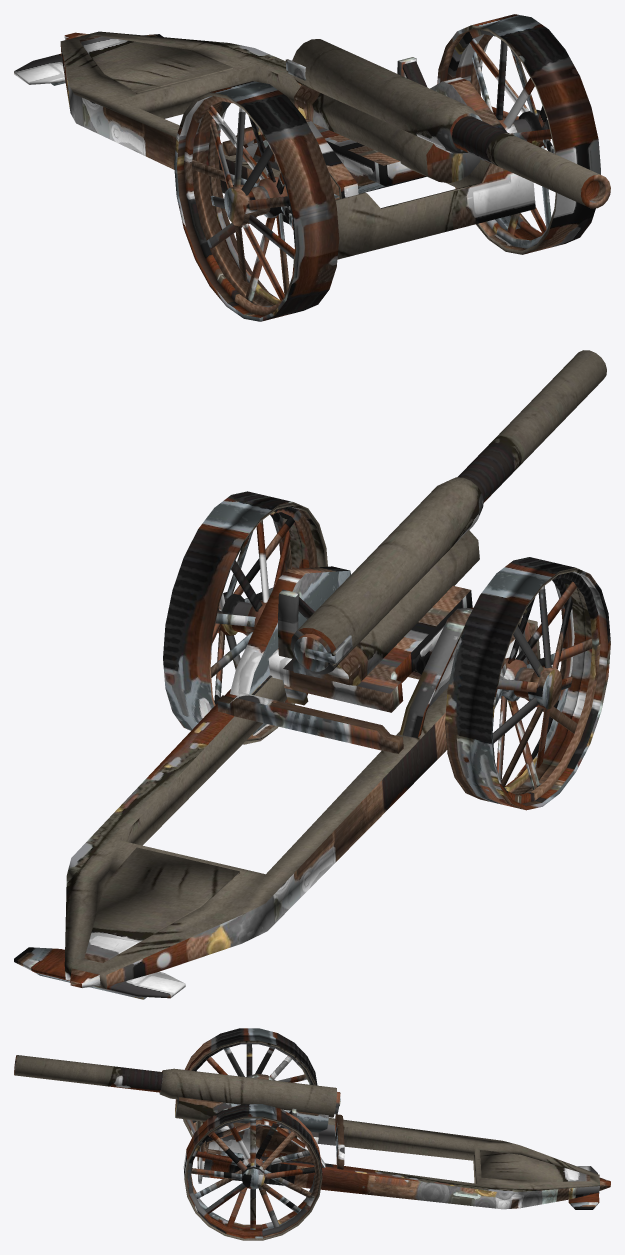
File: arty2.dae
3 views of the same model, one above another, from view 1: azimuth 30°, elevation 25°; view 2: azimuth 150°, elevation 25°; view 3: azimuth 270°, elevation 25° (orthographic). The views are drawn at different scales.
Parts seen in each view (by area): view 1: wheels, base, gun, barrel; view 2: base, wheels, gun, barrel; view 3: base, wheels, gun, barrel.
Boxes of the visible parts, left/top/right/bottom form: wheels: left=174, top=14, right=600, bottom=321; base: left=14, top=25, right=535, bottom=259; gun: left=285, top=39, right=481, bottom=193; barrel: left=452, top=116, right=610, bottom=208; base: left=14, top=541, right=540, bottom=999; wheels: left=163, top=491, right=610, bottom=810; gun: left=283, top=477, right=483, bottom=712; barrel: left=457, top=350, right=606, bottom=502; base: left=195, top=1073, right=610, bottom=1209; wheels: left=183, top=1028, right=322, bottom=1240; gun: left=159, top=1068, right=340, bottom=1144; barrel: left=14, top=1055, right=162, bottom=1092.
Bounding box in the file's own units: 24.85 × 70.01 × 18.47.
1 material, 1 textured.
